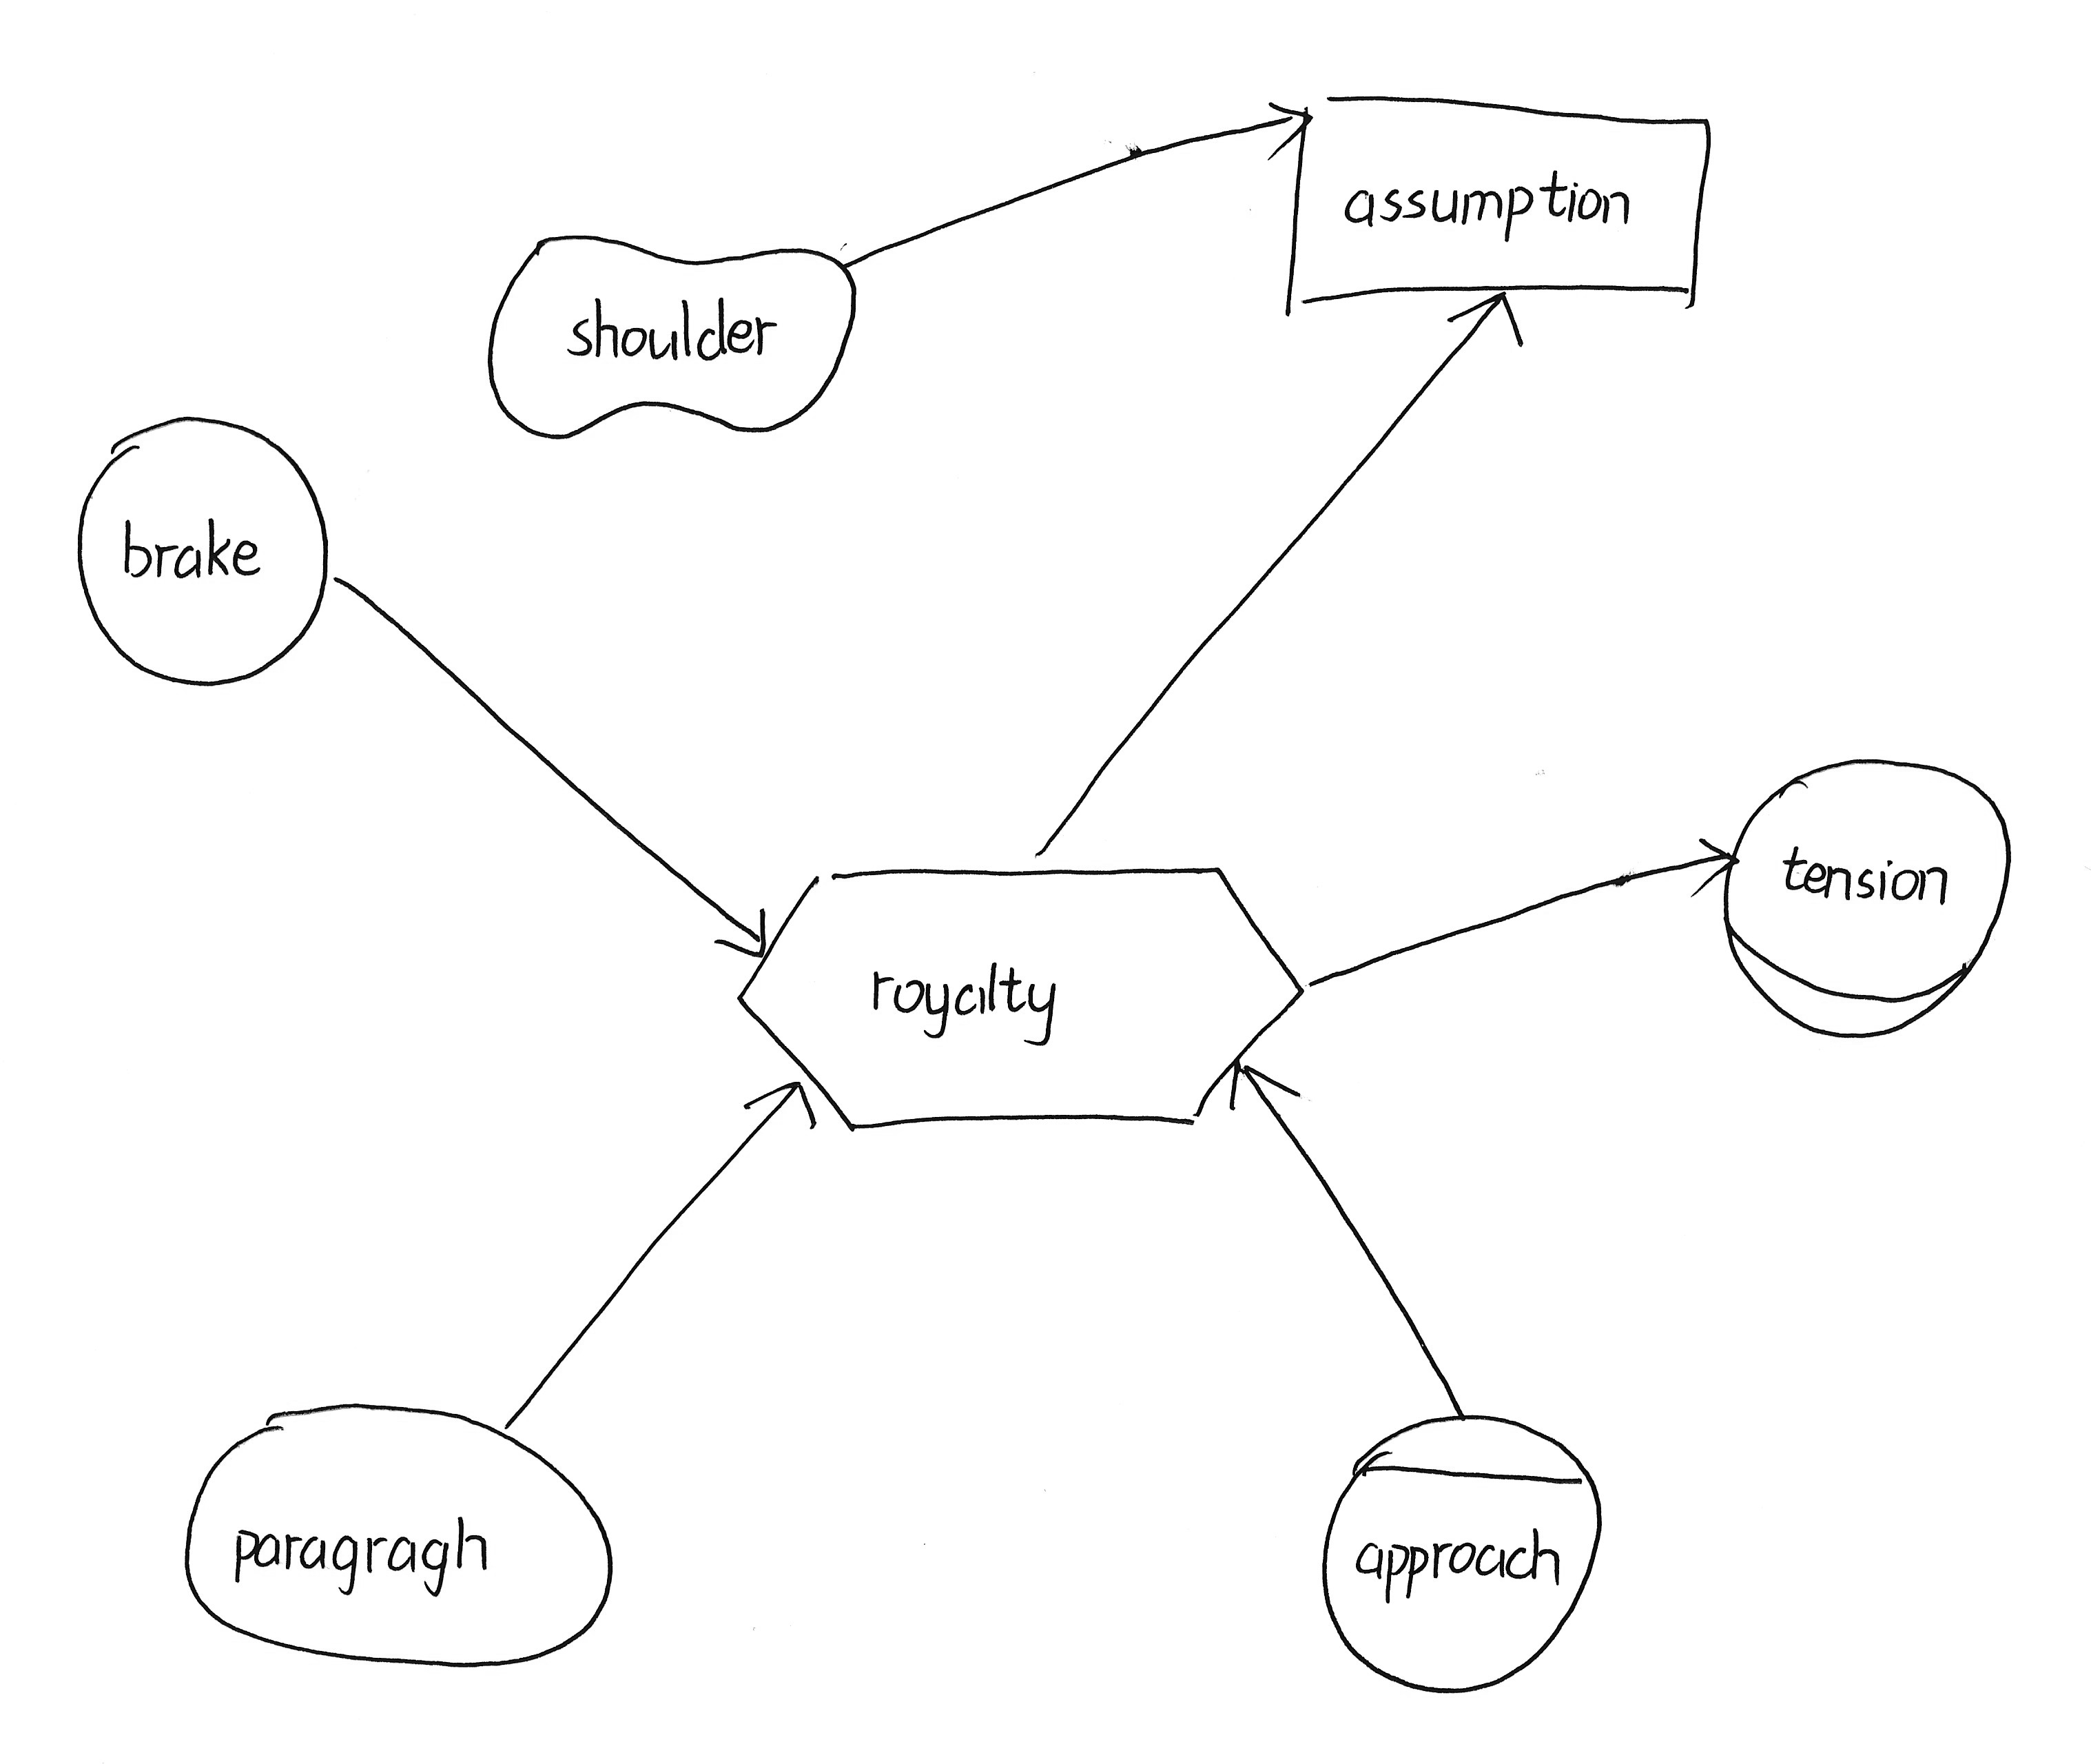actor: (58, 399, 345, 695)
agent: (1298, 1403, 1620, 1704)
arrow: (1430, 283, 1542, 360), (726, 1069, 833, 1137), (1214, 1050, 1309, 1120), (1676, 815, 1750, 903), (707, 889, 777, 971), (1251, 89, 1318, 170)
goal: (164, 1384, 632, 1689)
quality: (471, 213, 871, 451)
resource: (1276, 66, 1725, 338)
role: (1706, 745, 2028, 1053)
task: (730, 850, 1314, 1148)
